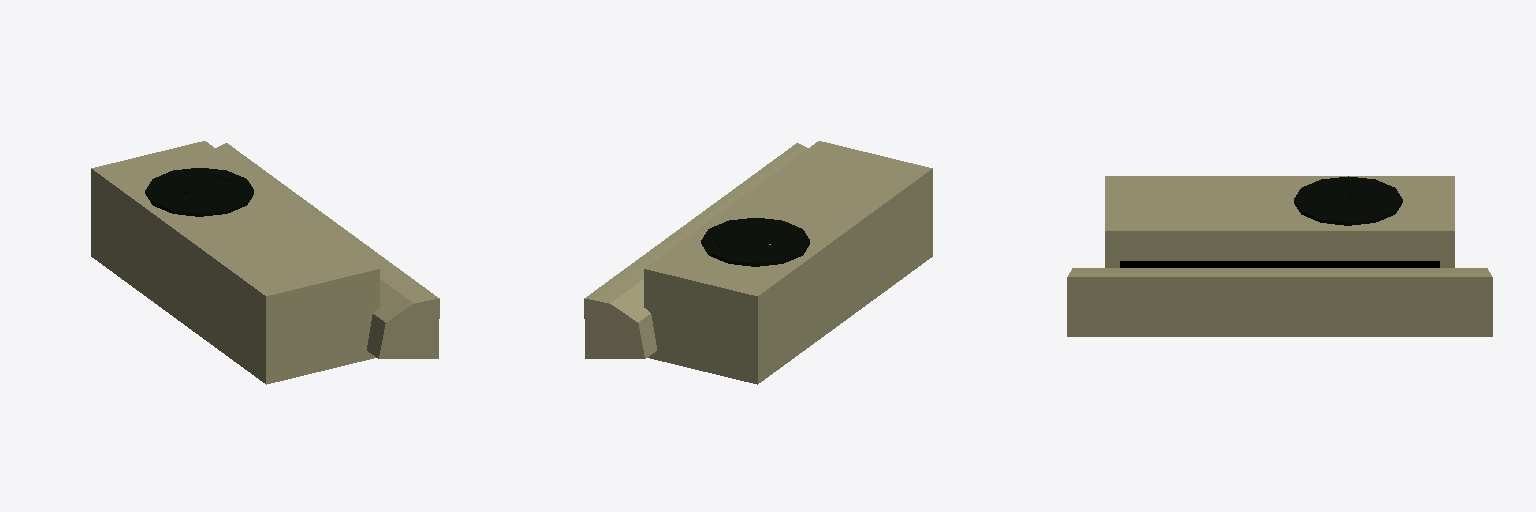
Rendered from StormDrain.obj.
3 renders of one model, left to right at view 1: azimuth 30°, elevation 25°; view 2: azimuth 150°, elevation 25°; view 3: azimuth 270°, elevation 25°, orthographic.
Parts seen in each view (by area): view 1: StormBase_Cube, ManholeCover_Cylinder.002; view 2: StormBase_Cube, ManholeCover_Cylinder.002; view 3: StormBase_Cube, ManholeCover_Cylinder.002.
Boxes of the visible parts, x1,y1,x2,y2 form: StormBase_Cube: [91, 141, 439, 384]; ManholeCover_Cylinder.002: [165, 174, 232, 198]; StormBase_Cube: [584, 141, 932, 384]; ManholeCover_Cylinder.002: [717, 232, 788, 250]; StormBase_Cube: [1067, 176, 1492, 336]; ManholeCover_Cylinder.002: [1348, 183, 1384, 216].
Bounding box in the file's own units: 7.88 × 4.47 × 18.78.